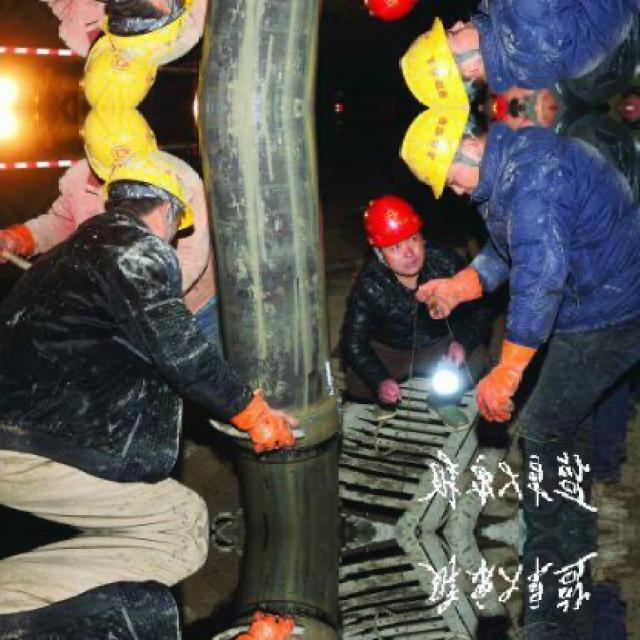con casco: (88, 147, 235, 237), (323, 174, 434, 270), (56, 81, 158, 172), (391, 101, 491, 176)
